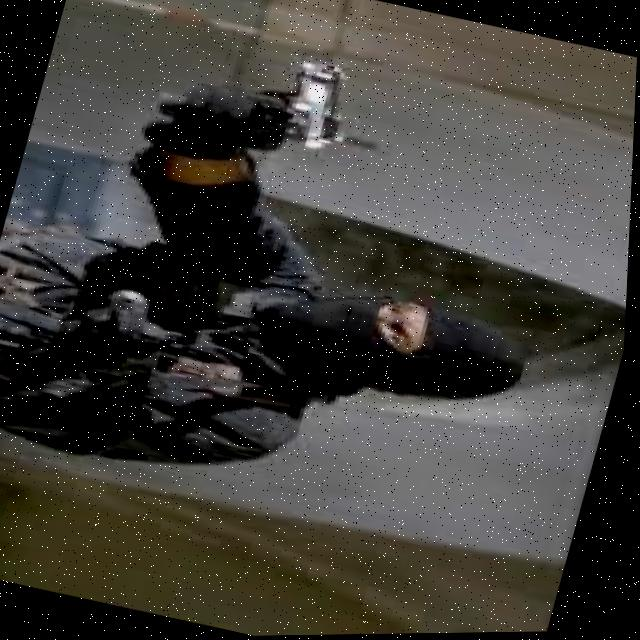firearm: (0, 256, 199, 413)
pistol: (146, 26, 368, 159)
